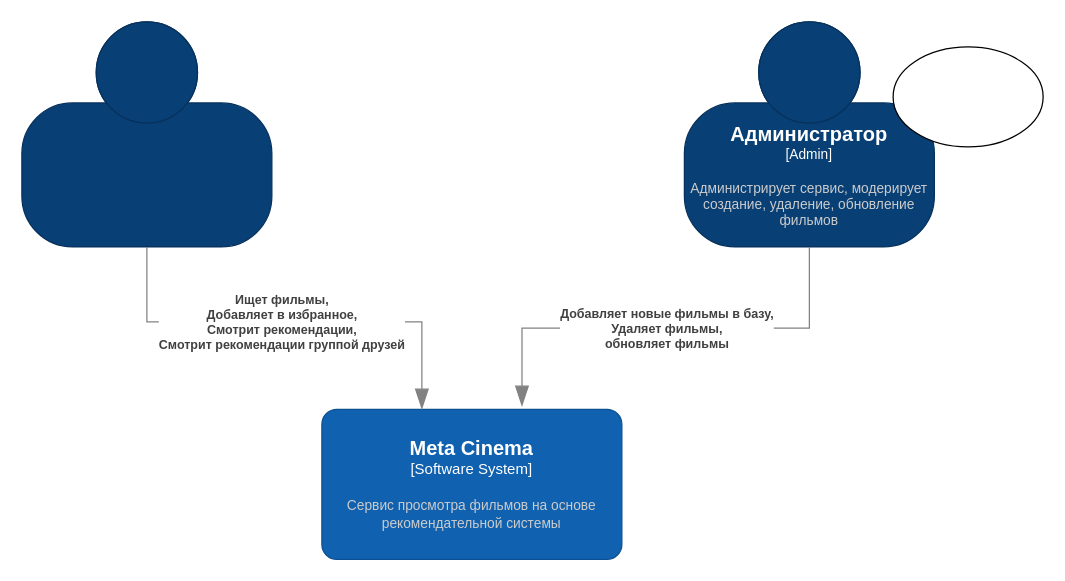
This 1065x581 diagram has some shape labels left out. Here are the shapes that lost their labels. From the top down, the centre of each, then its label:
At pixel 967 96: "Администраторский CRUD".
At pixel 146 134: "Клиент [Person] Получает рекомендации по просмотру фильмов".
